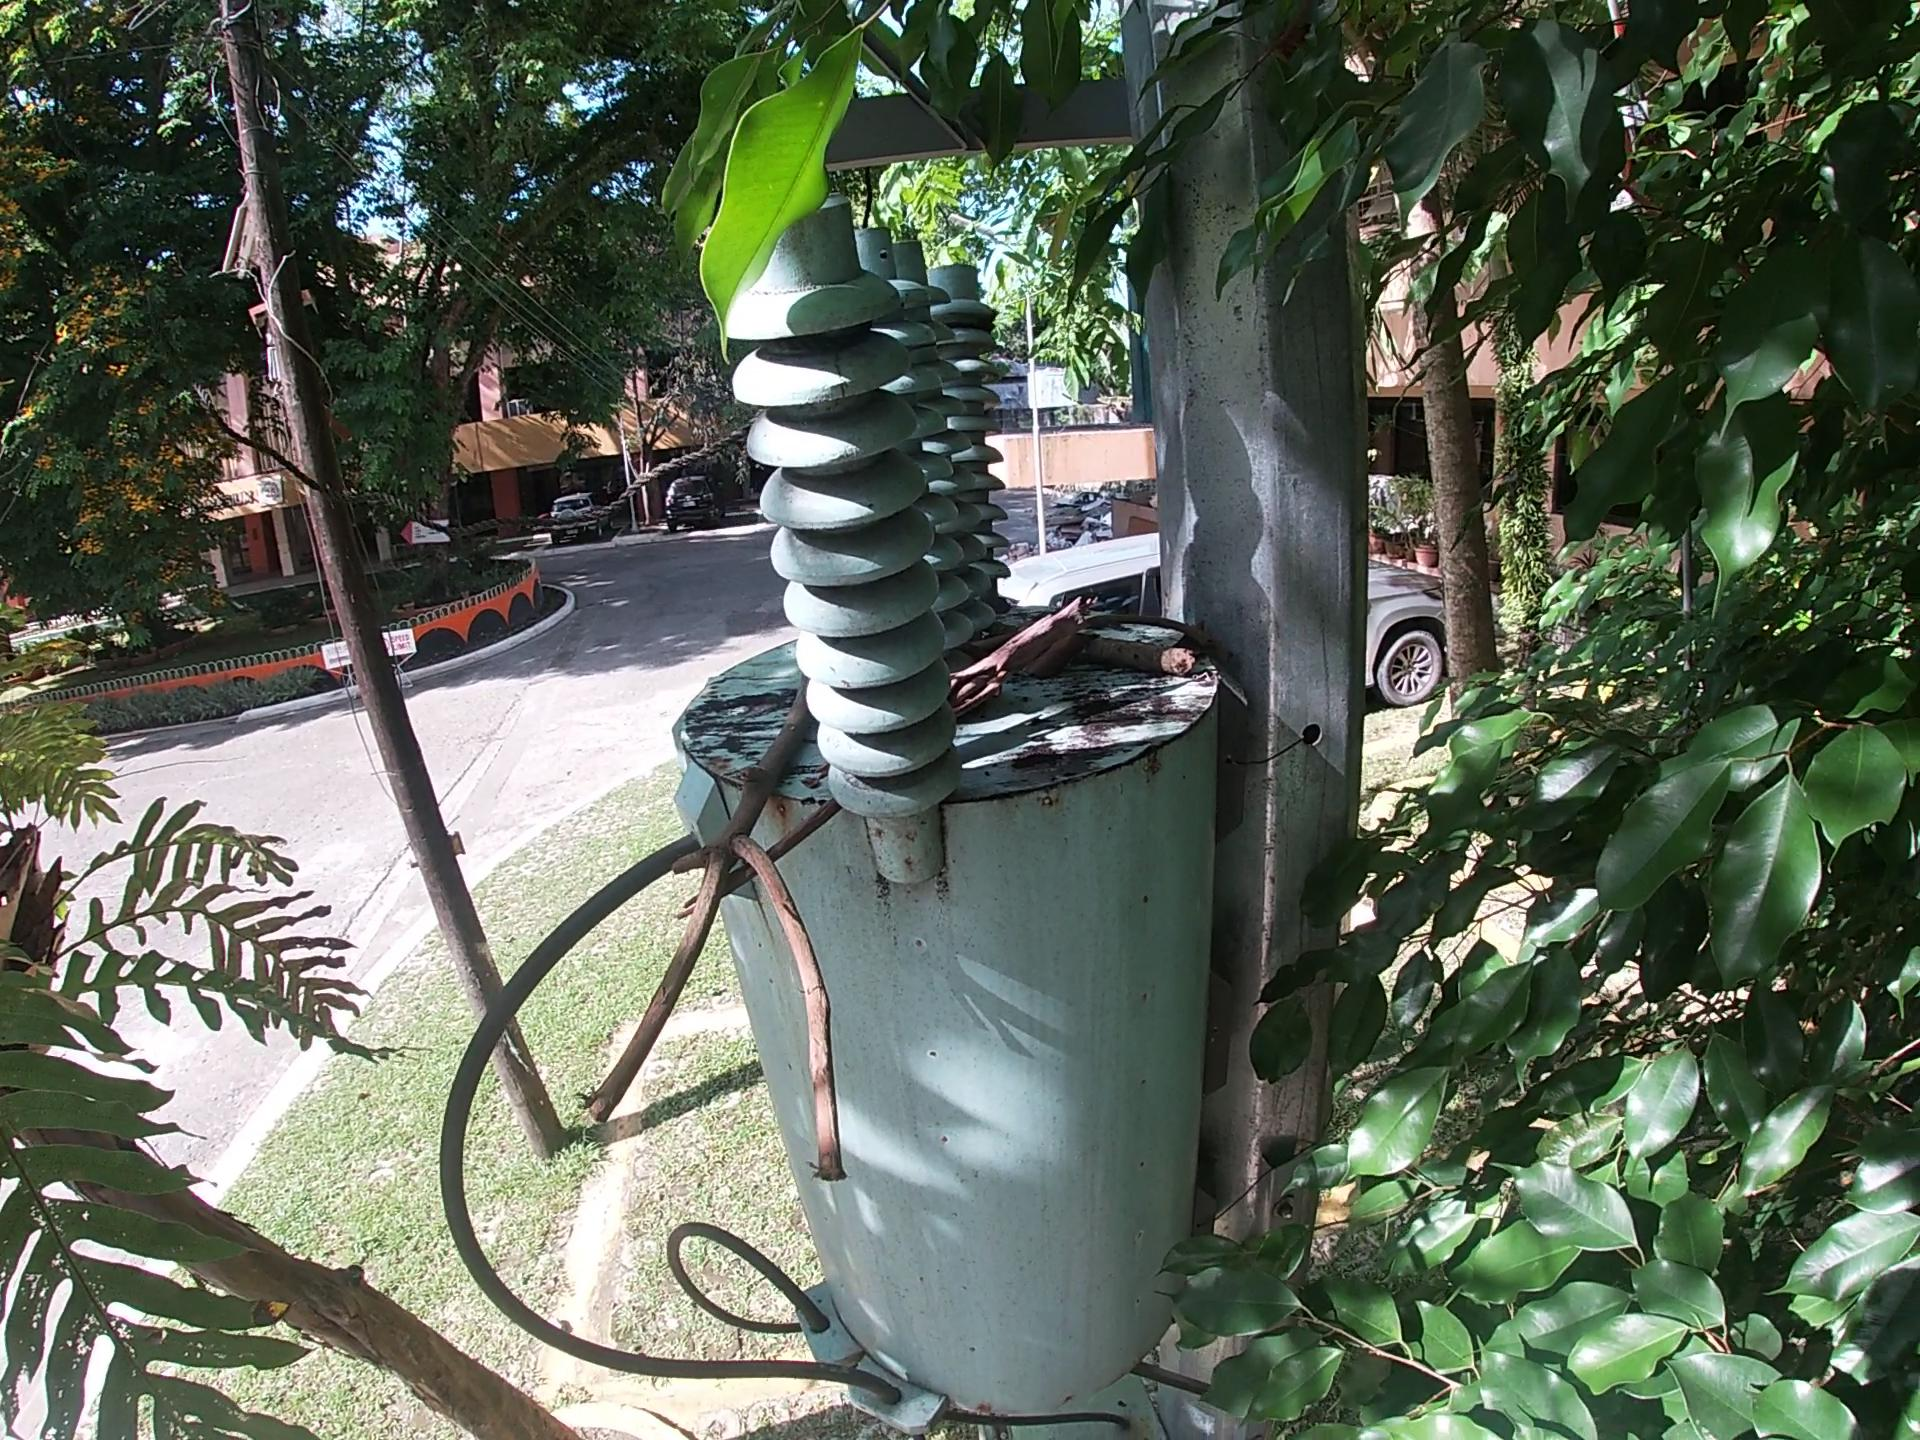tree branch: (582, 656, 898, 1187), (915, 590, 1101, 712), (1054, 637, 1206, 685), (1079, 611, 1247, 650), (955, 629, 1022, 666)
